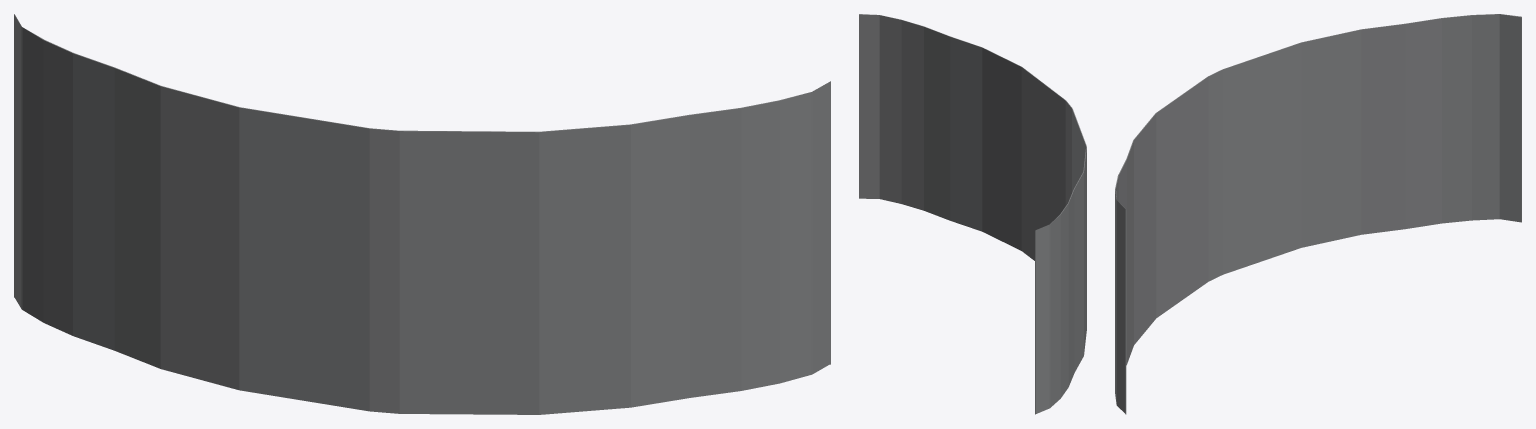
File: curva final nivel 1.fbx
The picture shows the model from 3 angles, left to right: view 1: azimuth 30°, elevation 25°; view 2: azimuth 150°, elevation 25°; view 3: azimuth 270°, elevation 25°; orthographic projection. The views are drawn at different scales.
Parts seen in each view (by area): view 1: Pared nivel 1.006; view 2: Pared nivel 1.006; view 3: Pared nivel 1.006.
Part boxes in pixels (box(x1,y1,x2,y2)): Pared nivel 1.006: box(14, 14, 830, 414); Pared nivel 1.006: box(859, 14, 1086, 414); Pared nivel 1.006: box(1115, 14, 1521, 414).
Bounding box in the file's own units: 612 × 301 × 539.
Materials: 1 (1 with a texture image).
